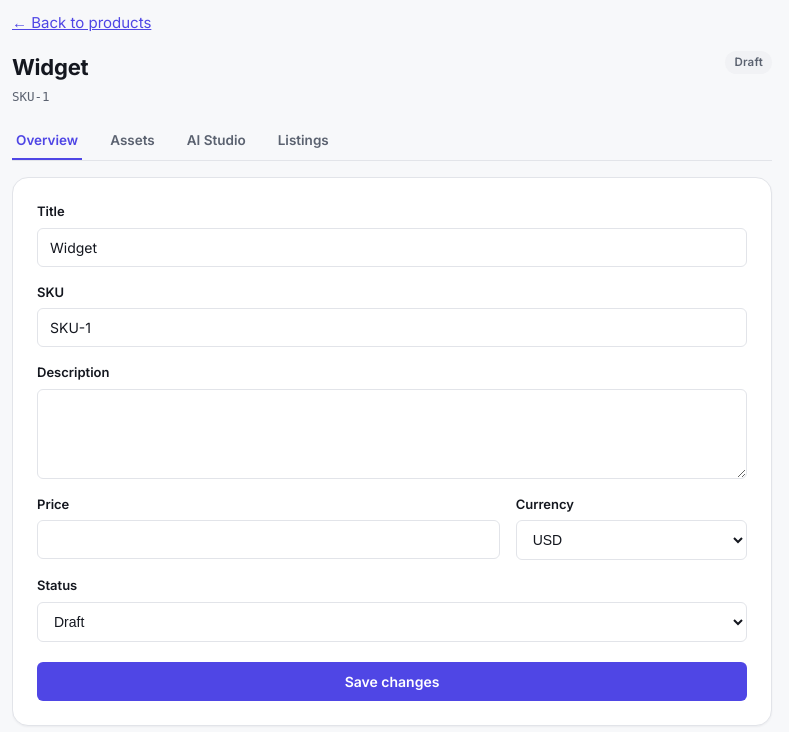
ProductDetailPage › switches to the Assets tab and shows its empty state
This screenshot has width=789, height=732.
Expected: the heading "Widget" is shown, [12,50,88,84]
Click the button "Assets" at [132, 141], box [106,122,159,160]
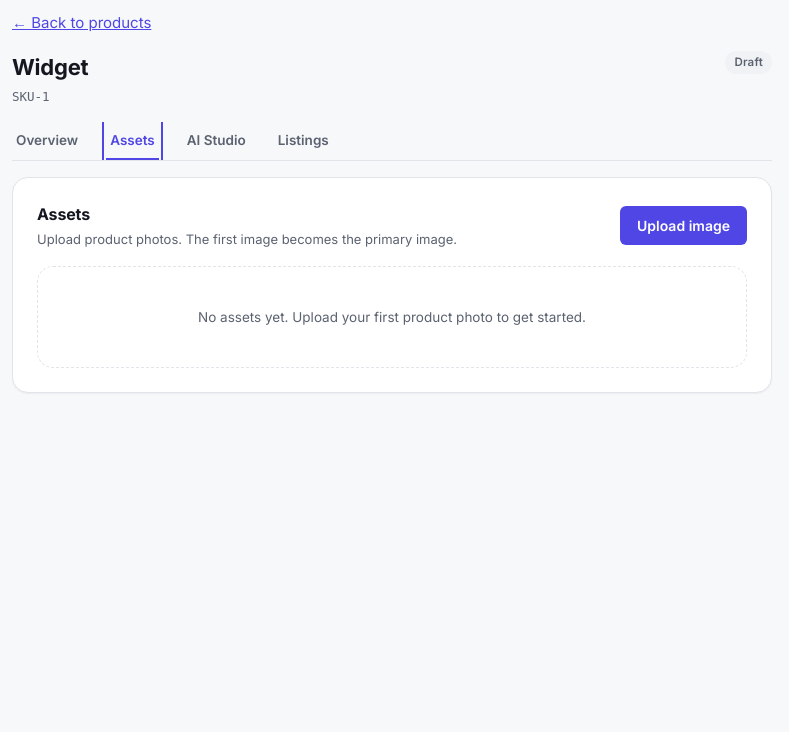
Now the text "No assets yet" is shown, box [198,309,586,325]
